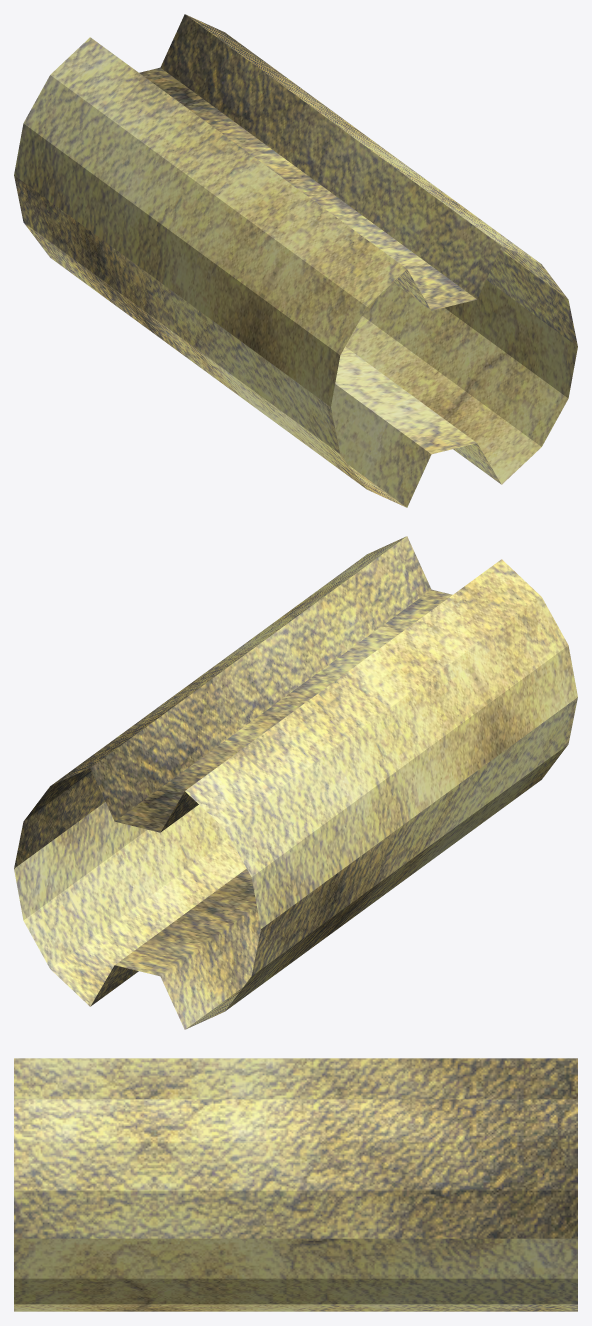
File: patella_inner.dae
The picture shows the model from 3 angles, top to bottom: view 1: azimuth 30°, elevation 25°; view 2: azimuth 150°, elevation 25°; view 3: azimuth 270°, elevation 25°; orthographic projection. The views are drawn at different scales.
Visible parts, largest first — view 1: Patella_Inner; view 2: Patella_Inner; view 3: Patella_Inner.
Boxes of the visible parts, x1,y1,x2,y2 form: Patella_Inner: (14, 14, 577, 507); Patella_Inner: (14, 536, 577, 1029); Patella_Inner: (14, 1058, 577, 1311).
Bounding box in the file's own units: 0.18 × 0.4 × 0.1663.
Materials: 1 (1 with a texture image).
